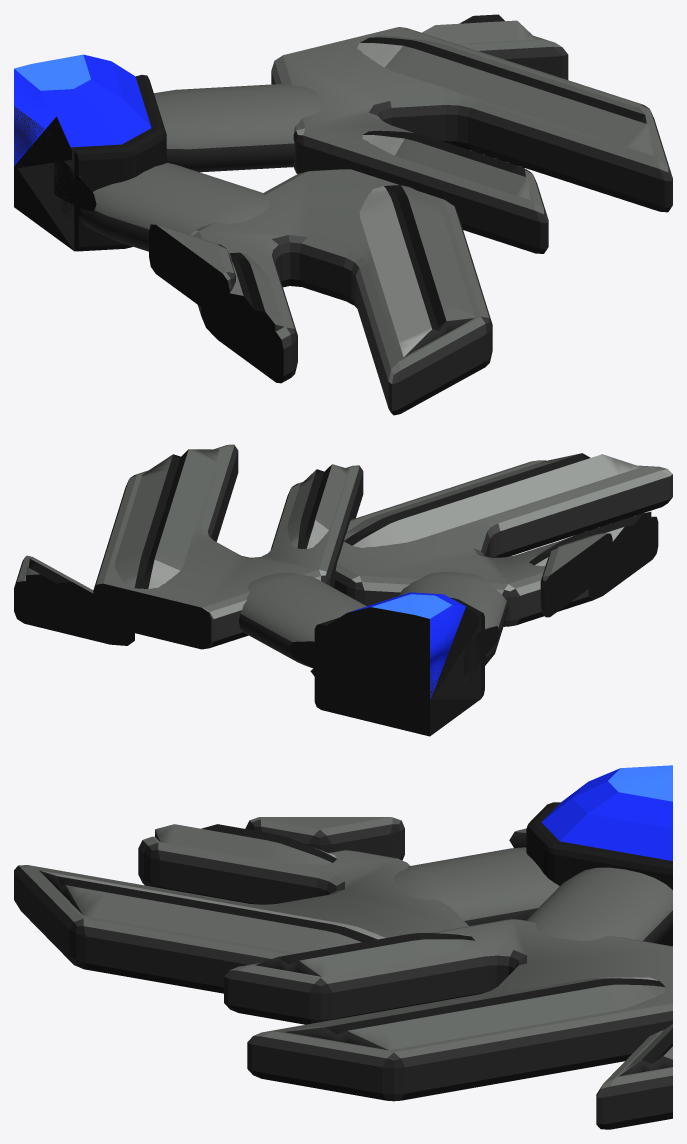
The model's file is dark_saw_201.glb.
3 views of the same model, one above another, from view 1: azimuth 30°, elevation 25°; view 2: azimuth 150°, elevation 25°; view 3: azimuth 270°, elevation 25° (orthographic). The views are drawn at different scales.
Parts seen in each view (by area): view 1: dark_saw_201_arm1_plate, dark_saw_201_under1_plate, dark_saw_201_under1_ridge0, dark_saw_201_arm1_ridge0, dark_saw_201_gem, dark_saw_201_arm1_rod, dark_saw_201_gem_bezel, dark_saw_201_under1_rod, dark_saw_201_arm2_plate, dark_saw_201_arm1_ridge1, dark_saw_201_under1_ridge1, dark_saw_201_under0_plate (+2 smaller); view 2: dark_saw_201_under1_plate, dark_saw_201_arm1_plate, dark_saw_201_gem_bezel, dark_saw_201_gem, dark_saw_201_under1_ridge0, dark_saw_201_arm1_ridge0, dark_saw_201_arm1_rod, dark_saw_201_under0_plate, dark_saw_201_arm2_plate, dark_saw_201_arm1_ridge1, dark_saw_201_under1_rod, dark_saw_201_under1_ridge1 (+2 smaller); view 3: dark_saw_201_arm1_plate, dark_saw_201_under1_plate, dark_saw_201_arm1_ridge0, dark_saw_201_under1_ridge0, dark_saw_201_gem, dark_saw_201_arm1_rod, dark_saw_201_under1_rod, dark_saw_201_arm1_ridge1, dark_saw_201_arm2_plate, dark_saw_201_gem_bezel, dark_saw_201_under0_plate, dark_saw_201_under1_ridge1 (+1 smaller).
Boxes of the visible parts, bbox=[...] form: dark_saw_201_arm1_plate: bbox=[271, 27, 672, 253]; dark_saw_201_under1_plate: bbox=[191, 169, 492, 415]; dark_saw_201_under1_ridge0: bbox=[359, 185, 474, 356]; dark_saw_201_arm1_ridge0: bbox=[357, 35, 654, 155]; dark_saw_201_gem: bbox=[14, 54, 151, 168]; dark_saw_201_arm1_rod: bbox=[154, 83, 321, 172]; dark_saw_201_gem_bezel: bbox=[14, 74, 166, 251]; dark_saw_201_under1_rod: bbox=[61, 163, 270, 251]; dark_saw_201_arm2_plate: bbox=[149, 224, 235, 322]; dark_saw_201_arm1_ridge1: bbox=[362, 130, 530, 200]; dark_saw_201_under1_ridge1: bbox=[214, 252, 283, 331]; dark_saw_201_under0_plate: bbox=[457, 35, 568, 79]; dark_saw_201_under1_plate: bbox=[334, 460, 672, 626]; dark_saw_201_arm1_plate: bbox=[93, 444, 363, 649]; dark_saw_201_gem_bezel: bbox=[314, 597, 484, 736]; dark_saw_201_gem: bbox=[324, 592, 479, 703]; dark_saw_201_under1_ridge0: bbox=[344, 453, 640, 547]; dark_saw_201_arm1_ridge0: bbox=[114, 449, 219, 594]; dark_saw_201_arm1_rod: bbox=[239, 572, 366, 680]; dark_saw_201_under0_plate: bbox=[14, 555, 134, 645]; dark_saw_201_arm2_plate: bbox=[540, 533, 612, 617]; dark_saw_201_arm1_ridge1: bbox=[287, 464, 348, 548]; dark_saw_201_under1_rod: bbox=[398, 572, 508, 683]; dark_saw_201_under1_ridge1: bbox=[529, 511, 651, 566]; dark_saw_201_arm1_plate: bbox=[224, 919, 672, 1101]; dark_saw_201_under1_plate: bbox=[14, 836, 468, 993]; dark_saw_201_arm1_ridge0: bbox=[285, 977, 665, 1050]; dark_saw_201_under1_ridge0: bbox=[39, 870, 385, 953]; dark_saw_201_gem: bbox=[541, 765, 672, 860]; dark_saw_201_arm1_rod: bbox=[526, 867, 672, 943]; dark_saw_201_under1_rod: bbox=[394, 847, 559, 925]; dark_saw_201_arm1_ridge1: bbox=[255, 933, 475, 976]; dark_saw_201_arm2_plate: bbox=[245, 817, 404, 860]; dark_saw_201_gem_bezel: bbox=[526, 802, 672, 946]; dark_saw_201_under0_plate: bbox=[596, 1030, 672, 1129]; dark_saw_201_under1_ridge1: bbox=[155, 824, 336, 864].
Size of the model in its own units: 21.87 by 5.63 by 24.41.
